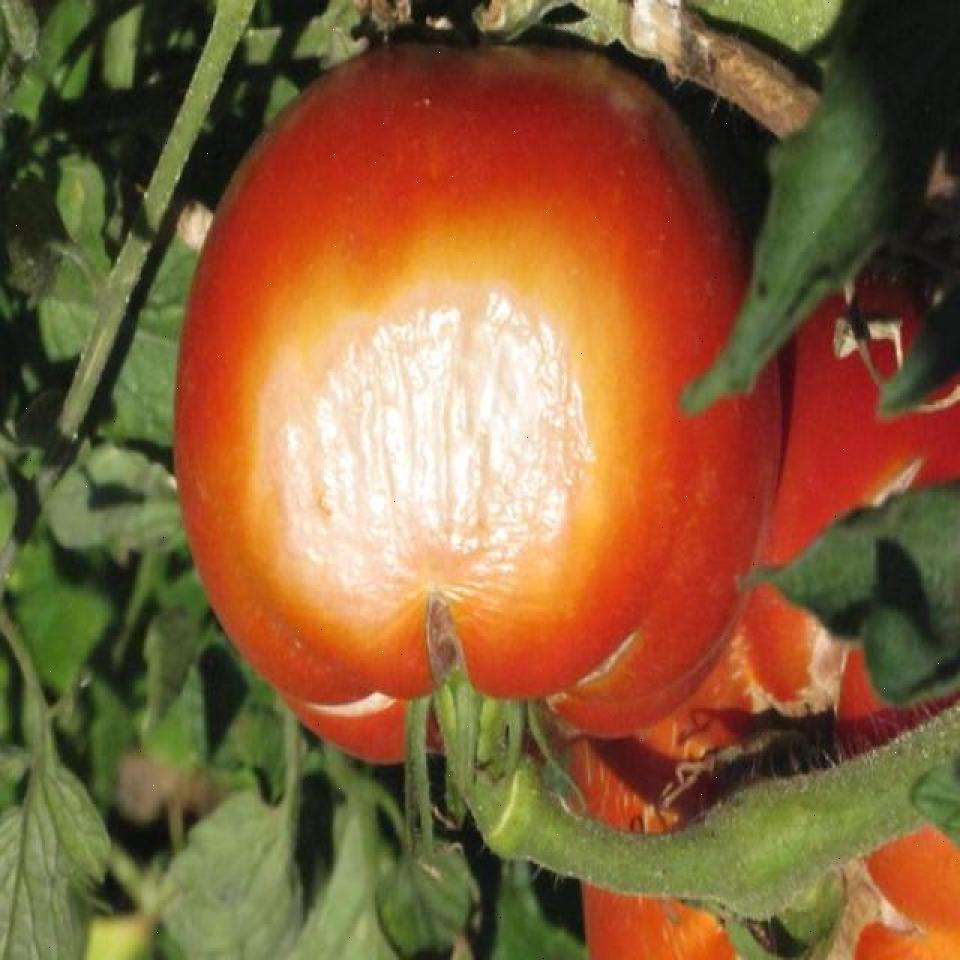Sunscald: (252, 266, 620, 642)
